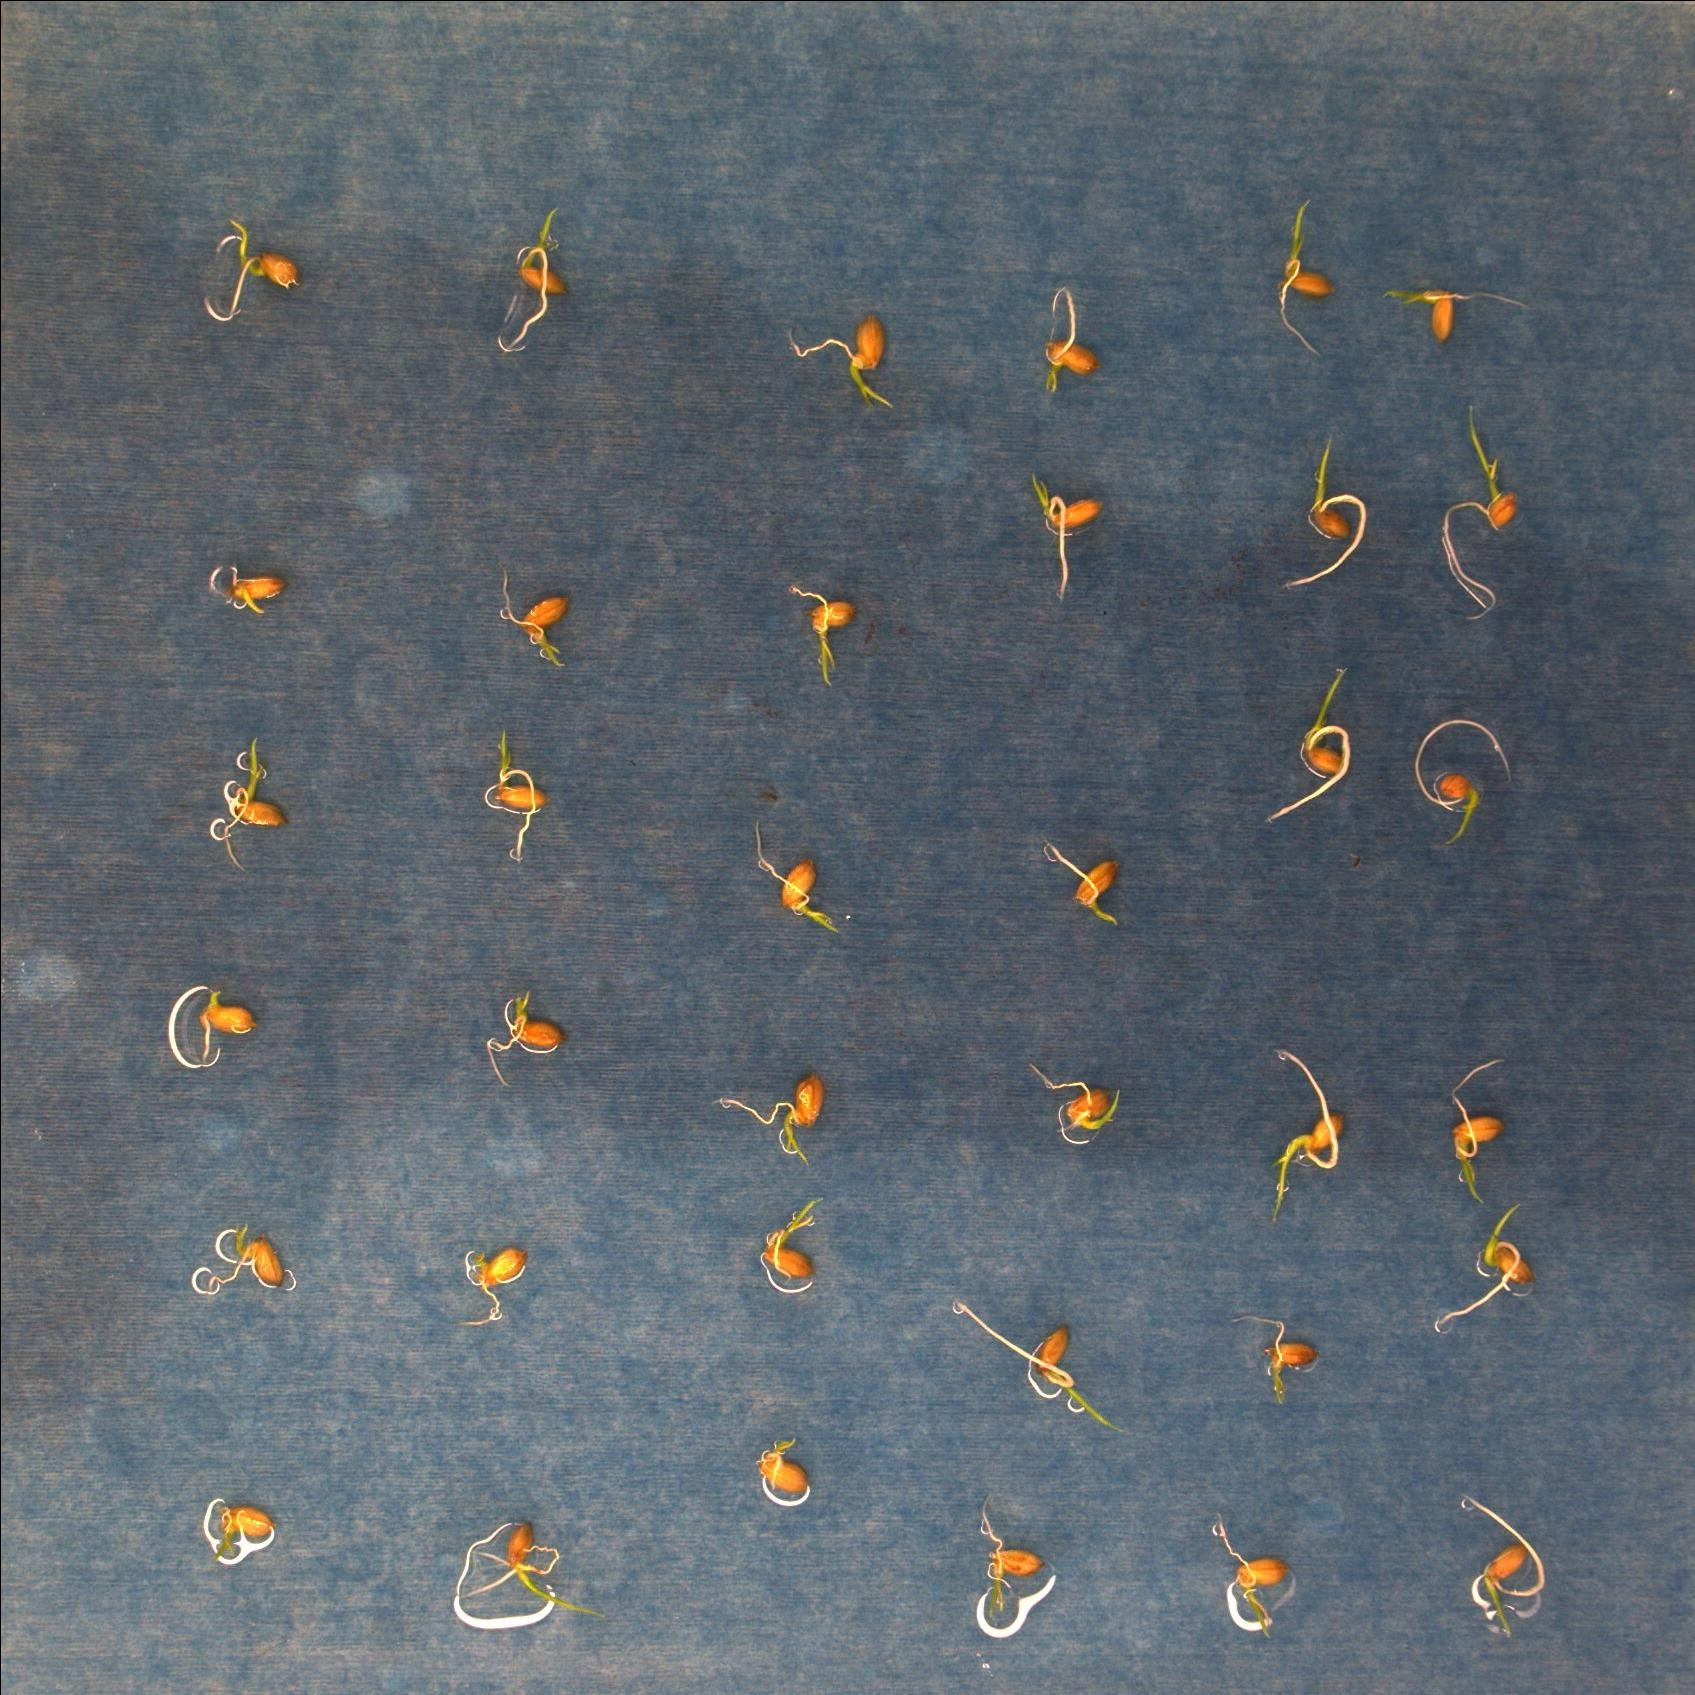not sprout: (194, 990, 258, 1065)
sprout: (951, 1299, 1130, 1433), (1442, 400, 1515, 626), (461, 1523, 612, 1624), (1265, 664, 1352, 821), (1270, 1048, 1346, 1225), (1430, 1203, 1532, 1333), (487, 203, 571, 359), (1282, 435, 1367, 587), (1459, 1495, 1544, 1639), (1416, 719, 1512, 846), (778, 317, 903, 408), (712, 1071, 824, 1170), (208, 737, 289, 872), (202, 217, 303, 323), (751, 815, 838, 931), (1212, 1510, 1288, 1641), (1273, 196, 1333, 359), (1026, 470, 1101, 601), (1445, 1054, 1506, 1205), (1386, 286, 1529, 348), (484, 726, 540, 868), (487, 581, 571, 674), (976, 1498, 1043, 1614), (1232, 1315, 1315, 1408), (784, 581, 854, 689), (486, 993, 560, 1090), (1040, 838, 1121, 927), (1023, 1060, 1121, 1132), (1034, 287, 1097, 396), (203, 1225, 284, 1299), (761, 1194, 823, 1287), (463, 1243, 526, 1326), (205, 563, 286, 618), (208, 1498, 275, 1558), (751, 1434, 812, 1496)
